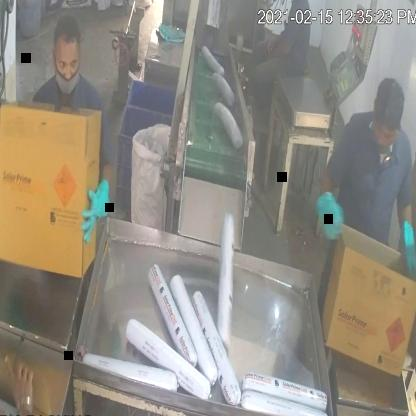glove: (309, 180, 365, 247), (71, 177, 119, 246), (394, 209, 416, 295)
no_glove: (0, 345, 45, 415)
